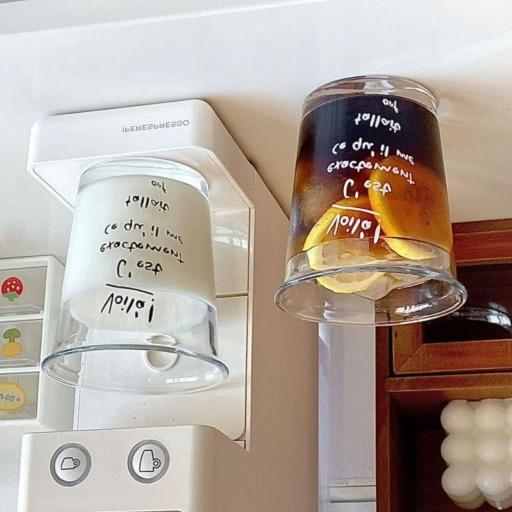cup: (276, 76, 466, 325), (42, 158, 228, 395)
